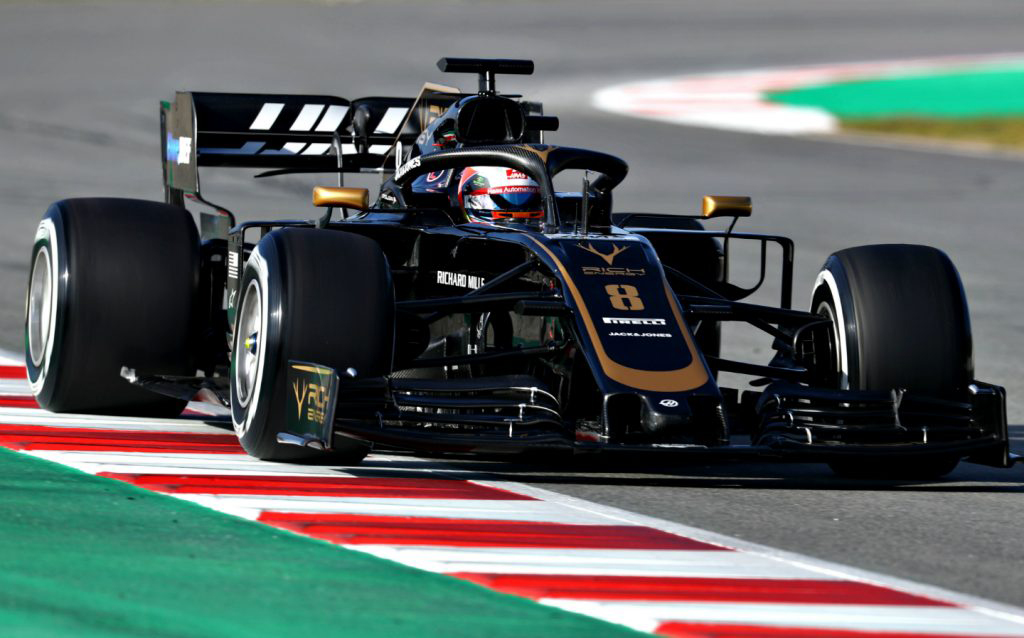F1 Car: (16, 53, 1021, 490)
